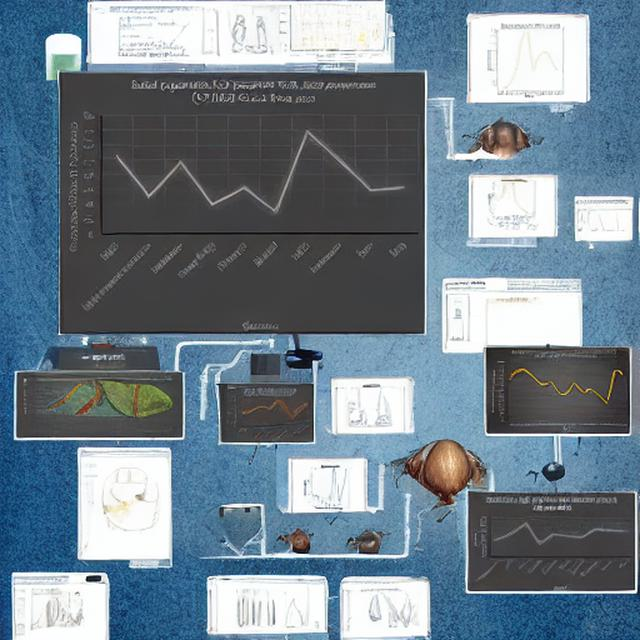Graph: (63, 74, 425, 332), (469, 494, 635, 591), (489, 349, 630, 433), (475, 19, 583, 100), (278, 1, 383, 60), (226, 390, 314, 443), (298, 463, 361, 510), (485, 177, 542, 220)
